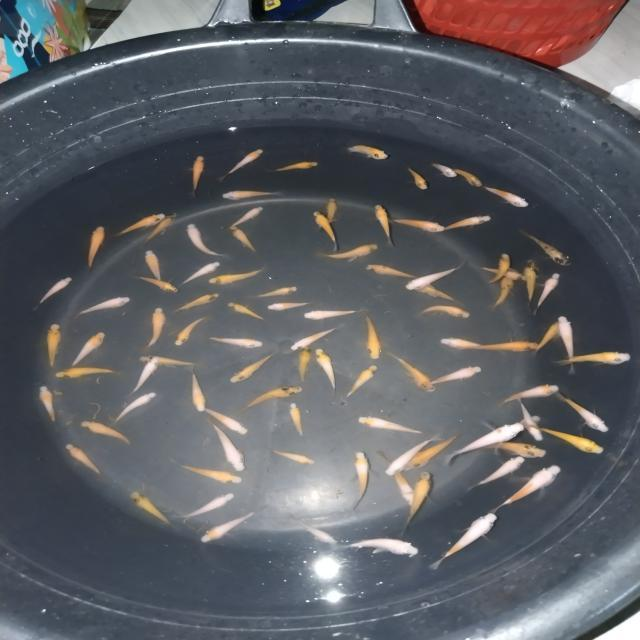nila: (428, 508, 503, 572), (494, 463, 570, 518), (442, 418, 522, 462), (376, 431, 444, 482), (394, 468, 446, 530), (554, 388, 616, 436), (195, 508, 268, 548), (374, 442, 416, 510), (234, 382, 307, 418), (520, 224, 576, 269), (386, 351, 440, 396), (75, 413, 138, 451), (407, 429, 460, 473), (207, 421, 251, 474), (536, 425, 608, 457), (168, 458, 250, 486), (210, 145, 270, 183), (336, 538, 429, 562), (130, 486, 180, 530), (226, 348, 285, 384), (180, 218, 230, 260), (400, 262, 468, 292), (355, 412, 430, 439), (340, 362, 388, 404), (488, 382, 562, 409), (466, 456, 528, 488), (178, 491, 238, 524), (199, 404, 253, 440), (346, 446, 374, 514), (479, 436, 551, 462), (29, 274, 78, 312), (67, 326, 110, 369), (114, 388, 158, 428), (68, 294, 135, 320), (290, 516, 342, 549), (556, 313, 584, 373), (312, 346, 342, 402), (552, 348, 635, 368), (284, 324, 342, 352), (109, 210, 167, 238), (203, 264, 270, 288), (479, 182, 536, 210), (428, 362, 484, 390), (138, 210, 180, 247), (128, 354, 162, 399), (364, 260, 426, 284), (311, 209, 344, 254), (138, 306, 172, 349), (358, 312, 386, 364), (82, 222, 110, 274), (373, 200, 402, 250), (288, 339, 320, 384), (187, 149, 214, 202), (386, 216, 454, 237), (173, 312, 211, 349), (66, 442, 105, 478), (52, 364, 130, 382), (203, 330, 266, 352), (177, 258, 223, 288), (407, 280, 464, 304), (531, 318, 565, 358), (266, 442, 322, 466), (472, 336, 546, 354), (130, 271, 185, 295), (314, 242, 379, 262), (169, 290, 219, 316), (515, 403, 546, 444), (440, 212, 494, 235), (400, 162, 434, 198), (343, 142, 394, 166), (226, 220, 263, 253), (534, 270, 564, 310), (223, 300, 269, 326), (34, 382, 61, 426), (482, 248, 513, 286), (478, 262, 536, 282), (268, 158, 326, 178), (298, 306, 370, 322), (246, 282, 306, 301), (44, 320, 65, 374), (414, 302, 476, 320), (286, 400, 312, 442), (449, 162, 487, 190), (490, 274, 515, 316), (435, 334, 493, 352), (522, 257, 540, 313), (226, 205, 268, 229), (496, 412, 545, 432), (137, 354, 202, 369), (264, 298, 320, 314), (219, 188, 287, 201), (190, 370, 210, 414), (143, 248, 167, 284), (428, 157, 457, 181), (324, 192, 341, 224)
